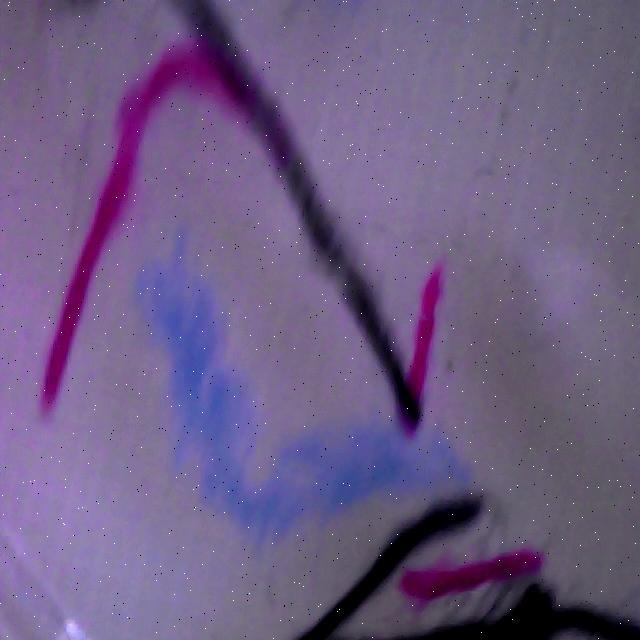fibers: (173, 0, 438, 440), (410, 585, 640, 640), (398, 543, 549, 608), (0, 1, 1, 1)
